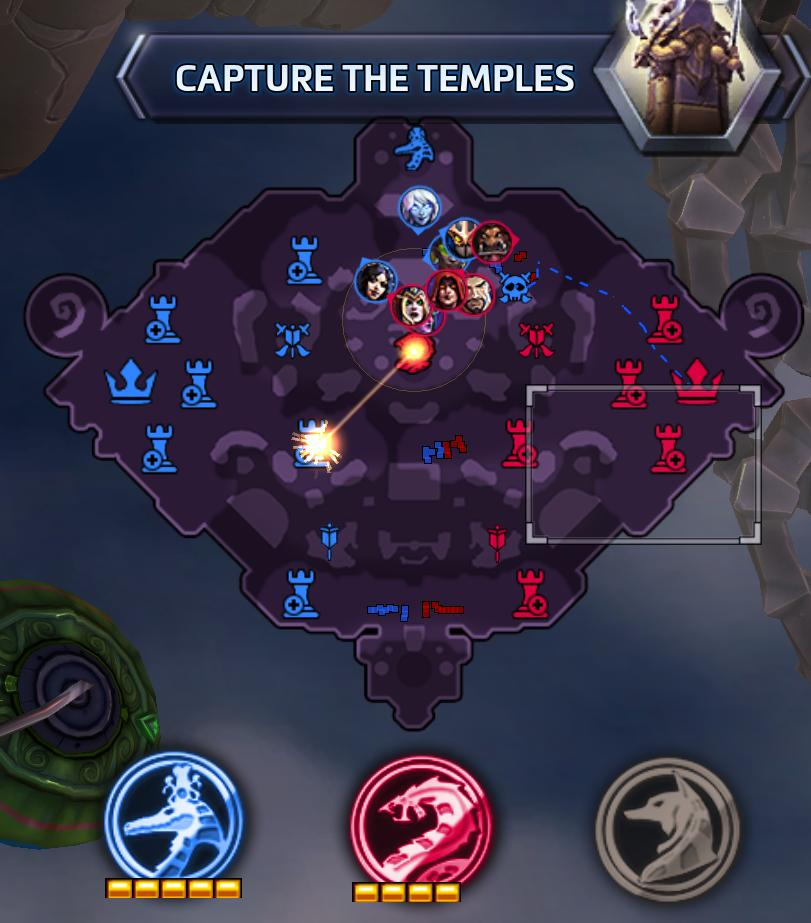blue nexus: (103, 356, 158, 404), (392, 124, 434, 172)
blue player: (354, 258, 397, 305), (398, 186, 441, 231), (440, 217, 480, 264)
blue tower: (281, 566, 320, 619), (179, 357, 218, 409), (144, 293, 183, 345), (285, 233, 323, 285), (141, 422, 179, 473)
red nexus: (669, 356, 724, 404)
red player: (388, 284, 432, 332), (470, 220, 515, 262), (427, 268, 466, 311), (459, 273, 494, 315)
red tower: (644, 293, 683, 346), (500, 416, 539, 468), (512, 567, 549, 620), (610, 357, 647, 409), (650, 422, 686, 473)
